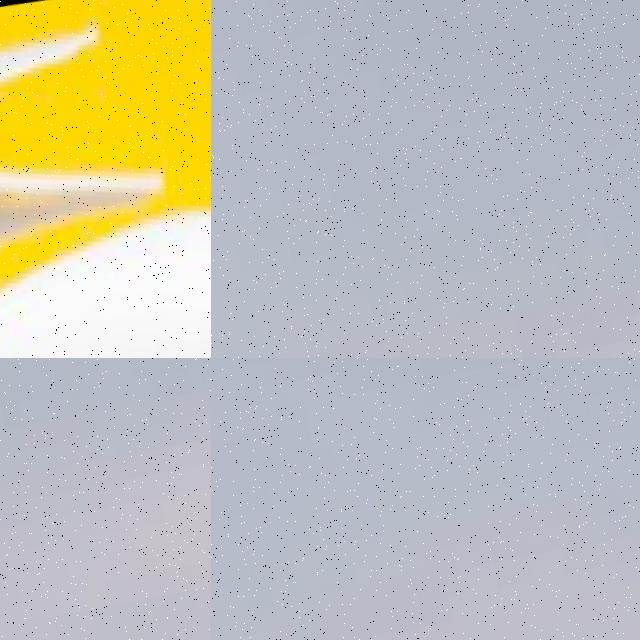drone: (0, 0, 211, 358)
